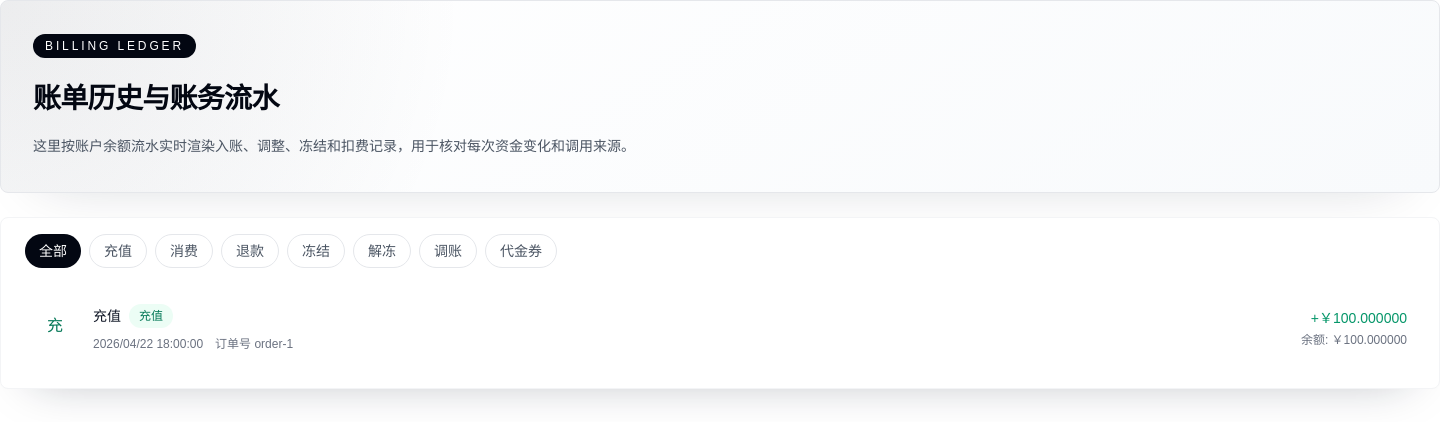
Test: BillingHistoryPage › hides voucher remarks and internal references from billing rows
Click the button "代金券": (521,251) [485, 234, 557, 268]
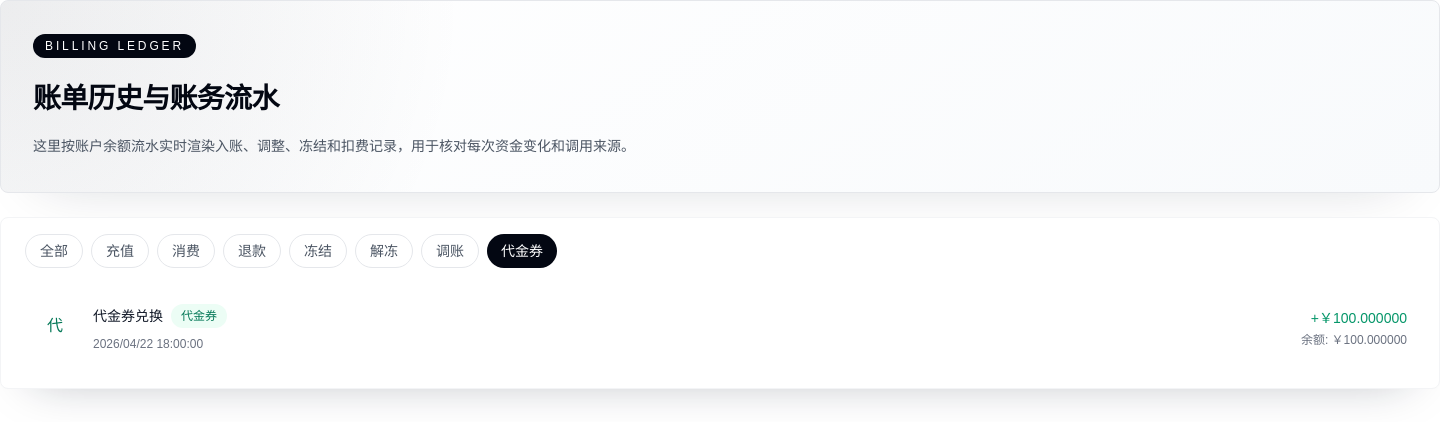
expect the text "代金券兑换" is shown: met, box [93, 306, 163, 326]
